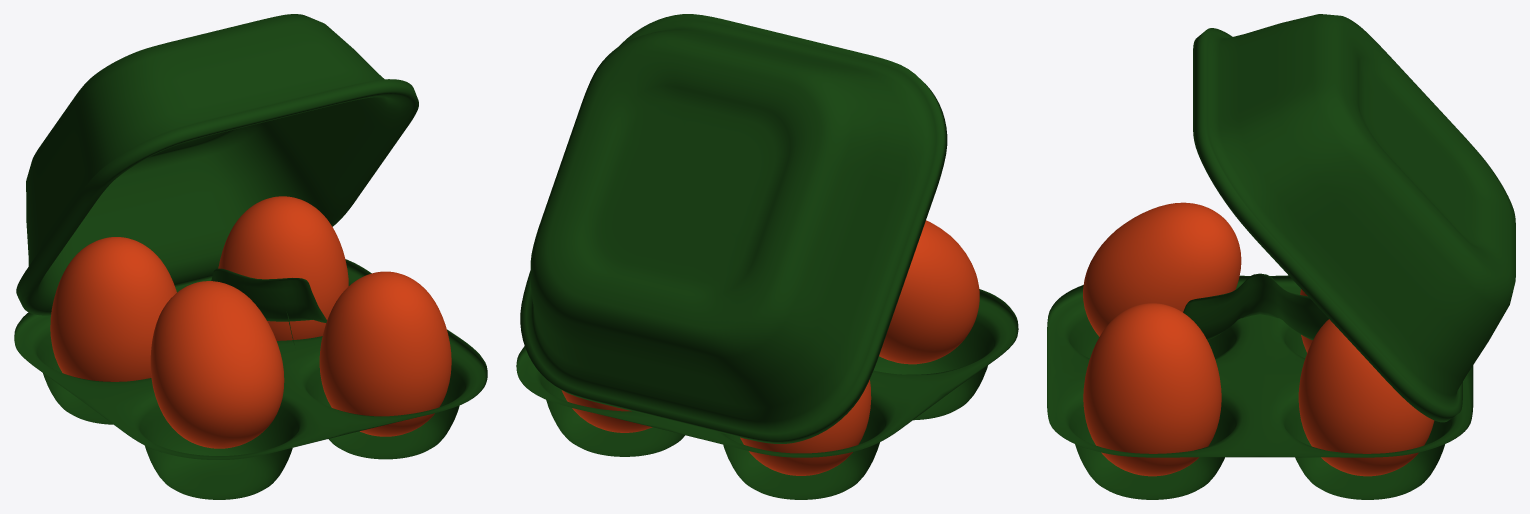
The model's file is 4ovos.obj.
3 views of the same model, side by side, from view 1: azimuth 30°, elevation 25°; view 2: azimuth 150°, elevation 25°; view 3: azimuth 270°, elevation 25° (orthographic). The views are drawn at different scales.
Visible parts, largest first — view 1: Sphere.042, Sphere.038, Sphere.039, Sphere.037, Sphere.041, Sphere.040; view 2: Sphere.042, Sphere.038, Sphere.039, Sphere.041, Sphere.040; view 3: Sphere.042, Sphere.038, Sphere.037, Sphere.039, Sphere.040.
Boxes of the visible parts, x1,y1,x2,y2 form: Sphere.042: (16, 14, 418, 315); Sphere.038: (14, 259, 487, 499); Sphere.039: (150, 281, 284, 448); Sphere.037: (319, 271, 451, 436); Sphere.041: (50, 237, 176, 381); Sphere.040: (218, 196, 348, 340); Sphere.042: (520, 14, 947, 443); Sphere.038: (516, 289, 1018, 499); Sphere.039: (879, 220, 979, 364); Sphere.041: (740, 379, 871, 475); Sphere.040: (561, 390, 652, 432); Sphere.042: (1193, 14, 1515, 422); Sphere.038: (1047, 273, 1473, 499); Sphere.037: (1083, 303, 1221, 476); Sphere.039: (1083, 202, 1241, 336); Sphere.040: (1298, 319, 1434, 476).
Size of the model in its own units: 3.85 by 3.97 by 4.37.
